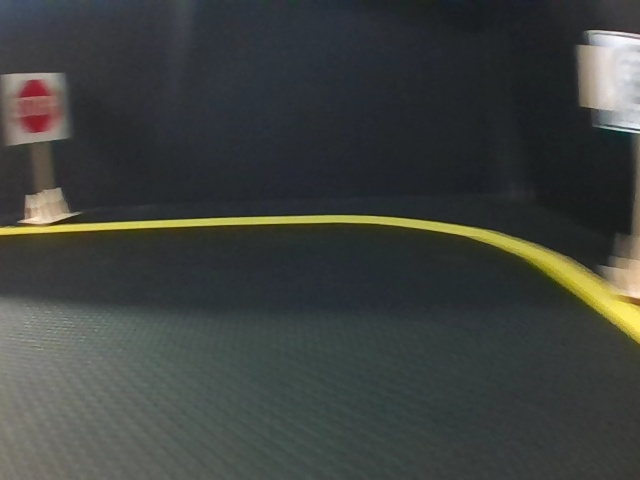no30: (600, 31, 640, 130)
stop: (2, 72, 69, 144)
